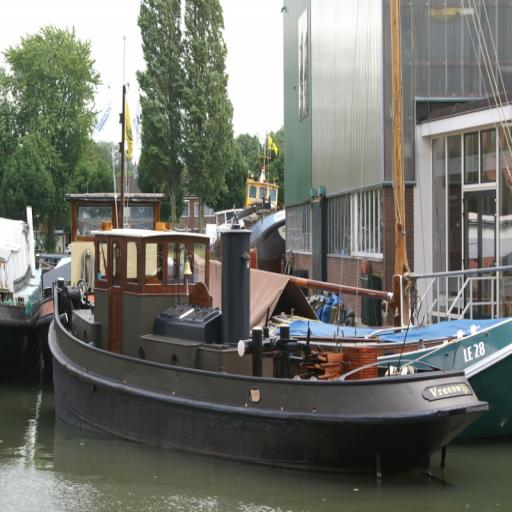tugboat: (49, 225, 491, 488)
